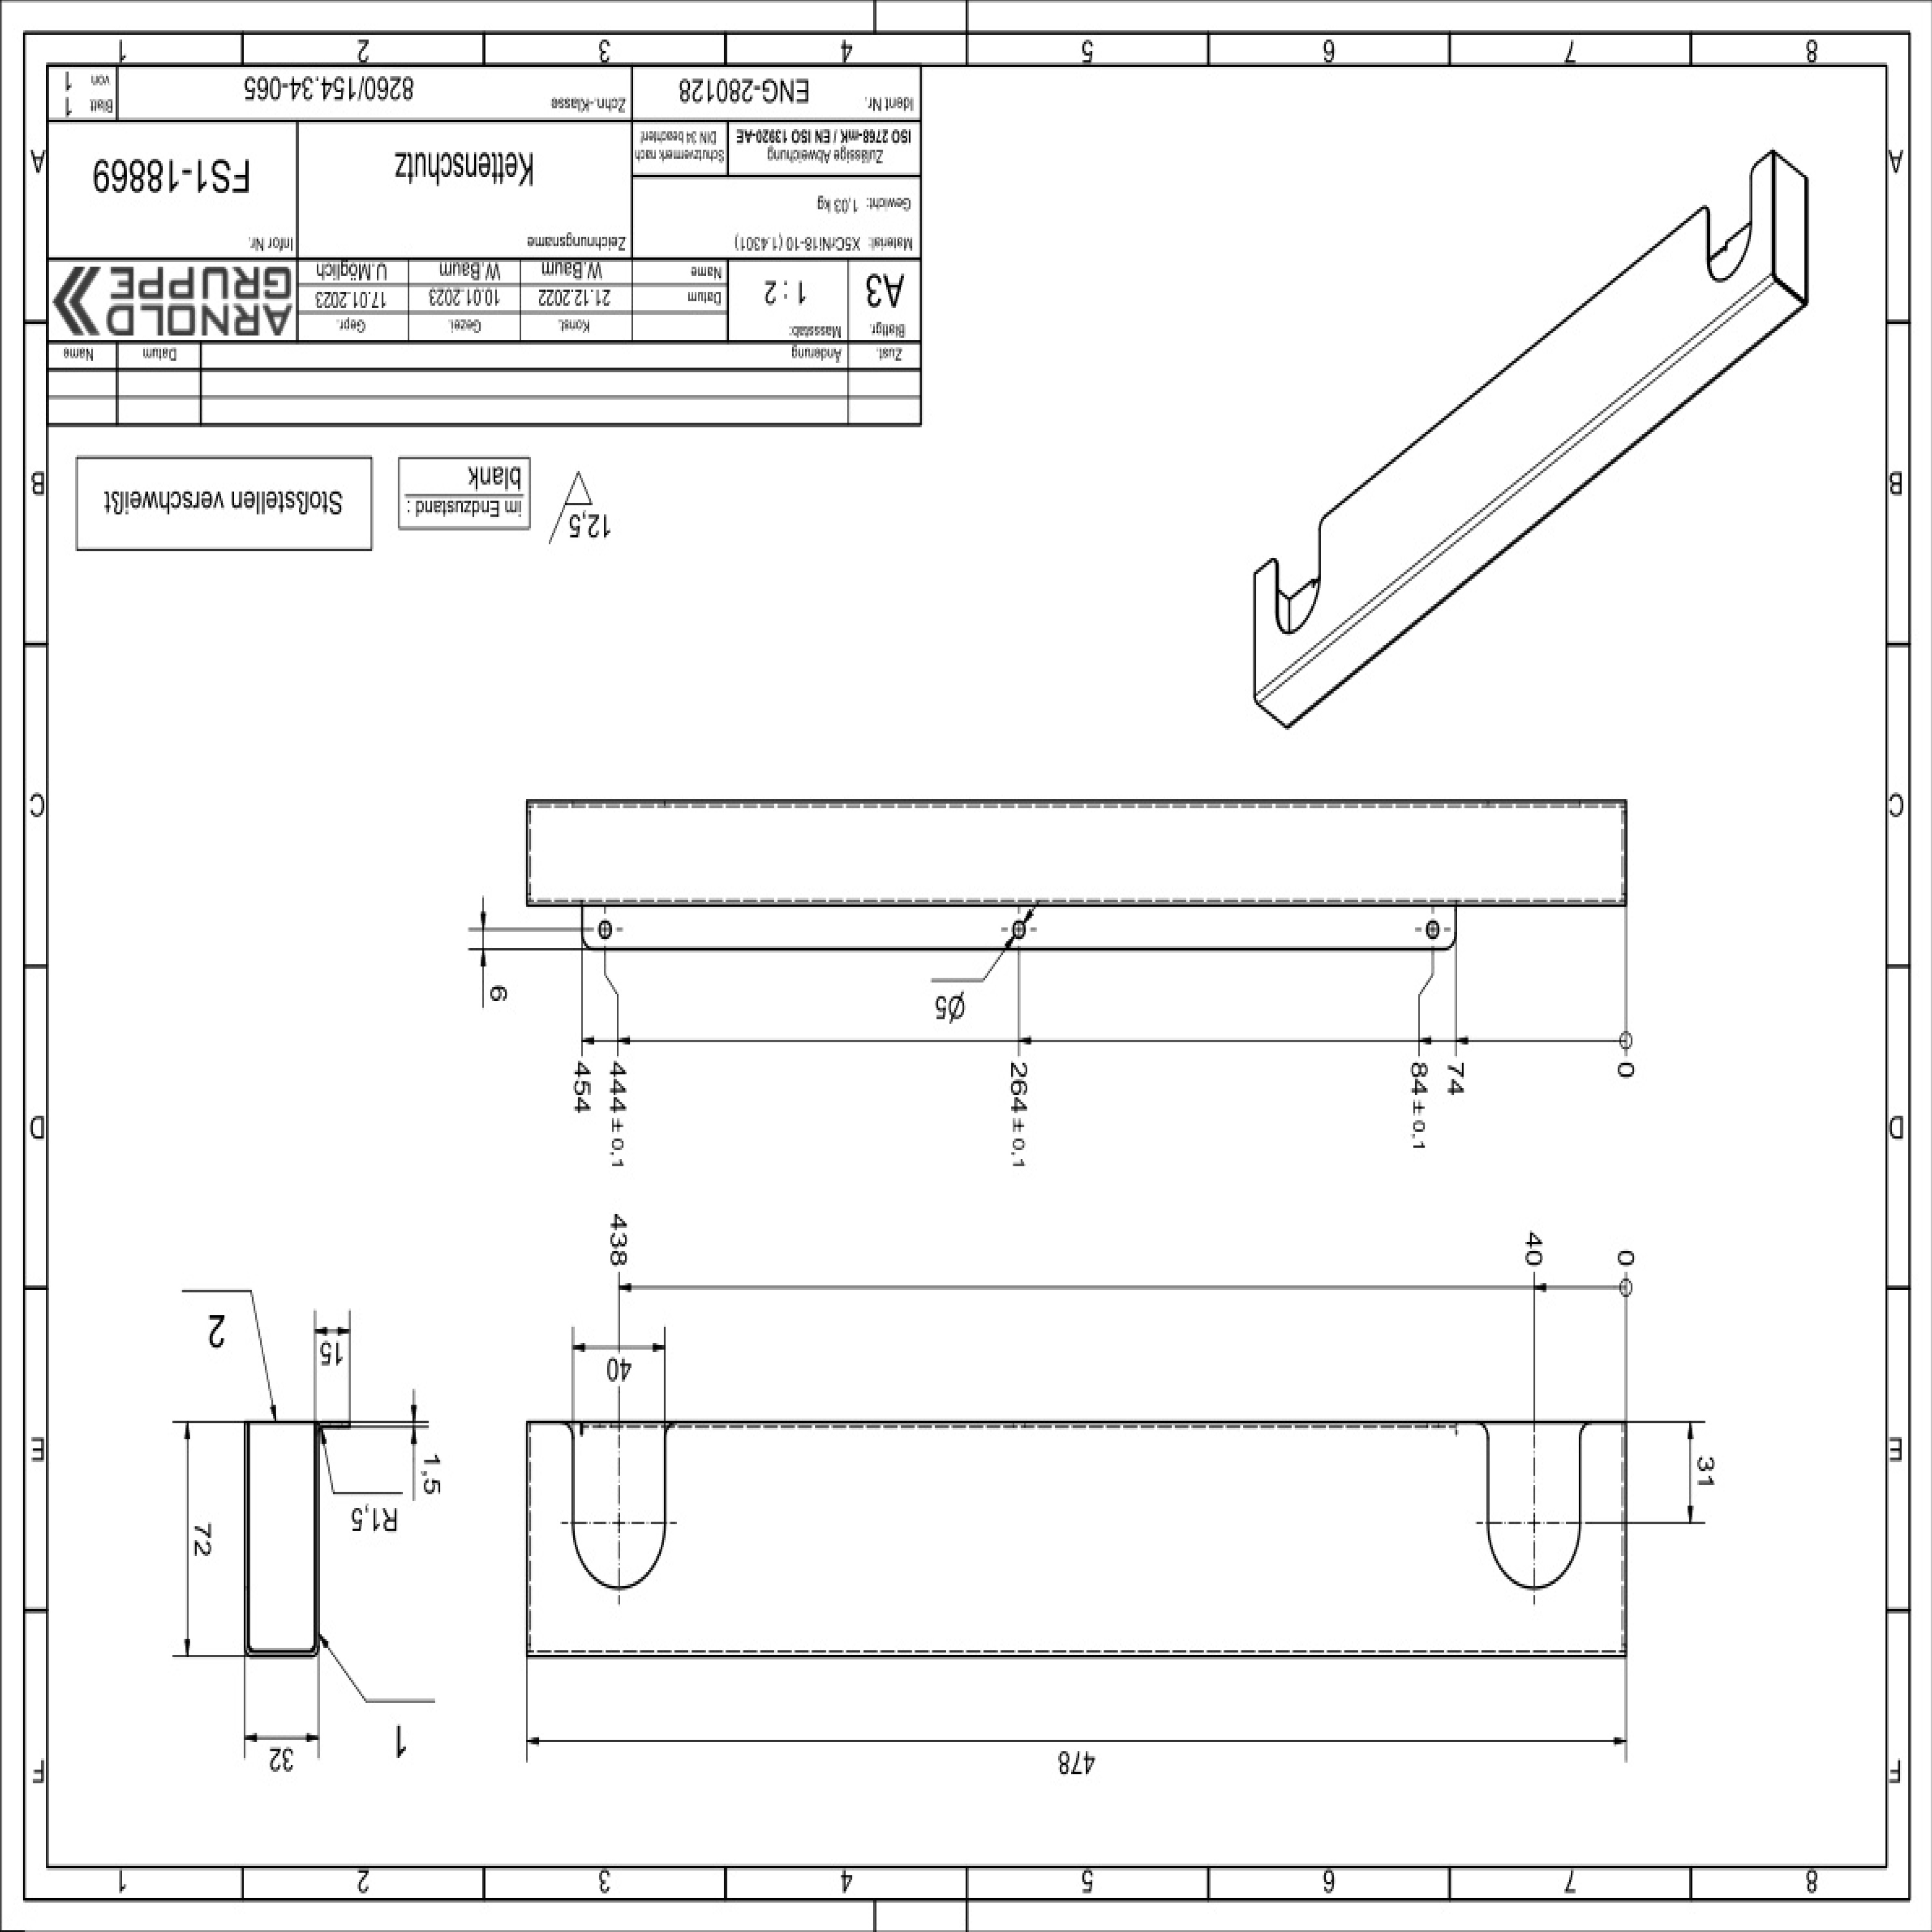InnerContour: (1009, 917, 1027, 940), (1423, 919, 1442, 940), (597, 918, 614, 940)
Notch: (1459, 1395, 1604, 1604), (552, 1405, 684, 1601)
